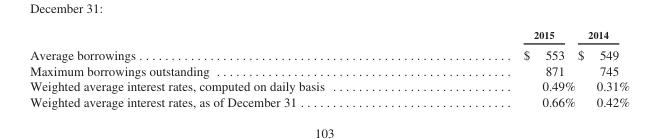table: (29, 28, 629, 108)
table column: (29, 28, 423, 108), (423, 28, 575, 108), (575, 28, 629, 108)
table column header: (29, 28, 629, 44)
table row: (29, 44, 629, 62), (29, 28, 629, 44), (29, 77, 629, 93), (29, 62, 629, 77), (29, 93, 629, 108)
